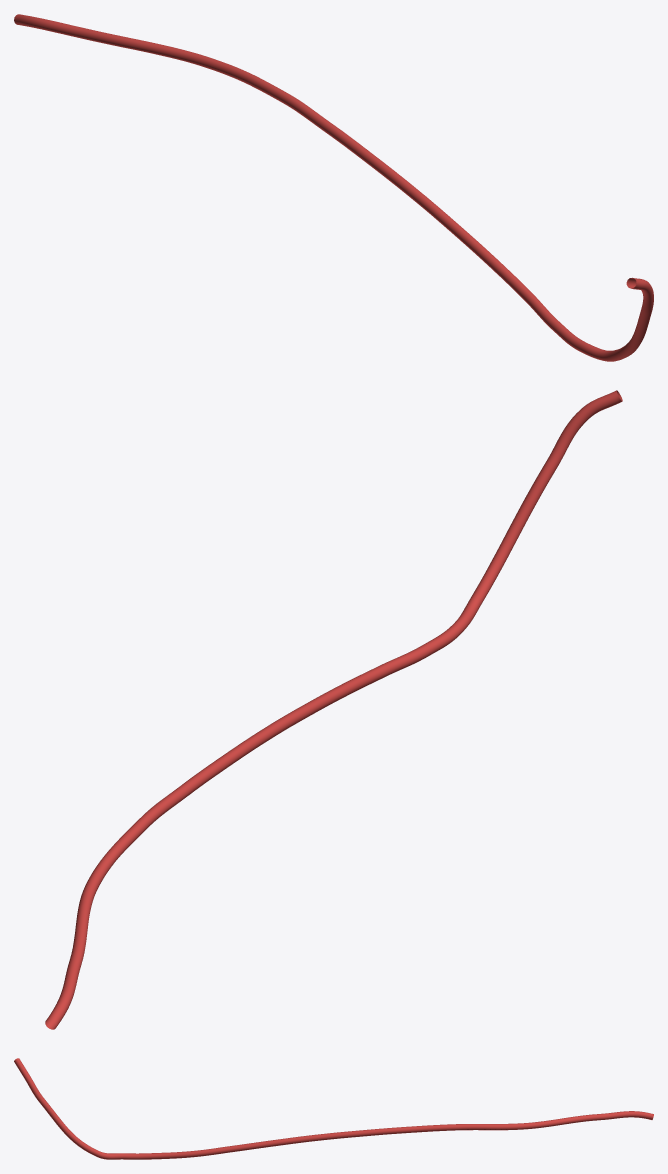
The picture shows the model from 3 angles, top to bottom: view 1: azimuth 30°, elevation 25°; view 2: azimuth 150°, elevation 25°; view 3: azimuth 270°, elevation 25°; orthographic projection. The views are drawn at different scales.
Parts seen in each view (by area): view 1: 左侧胫前动脉; view 2: 左侧胫前动脉; view 3: 左侧胫前动脉.
Part boxes in pixels (box(x1,y1,x2,y2)): 左侧胫前动脉: box(14, 14, 653, 361); 左侧胫前动脉: box(45, 390, 622, 1029); 左侧胫前动脉: box(14, 1058, 653, 1159).
Bounding box in the file's own units: 0.0561 × 0.0685 × 0.4474.
